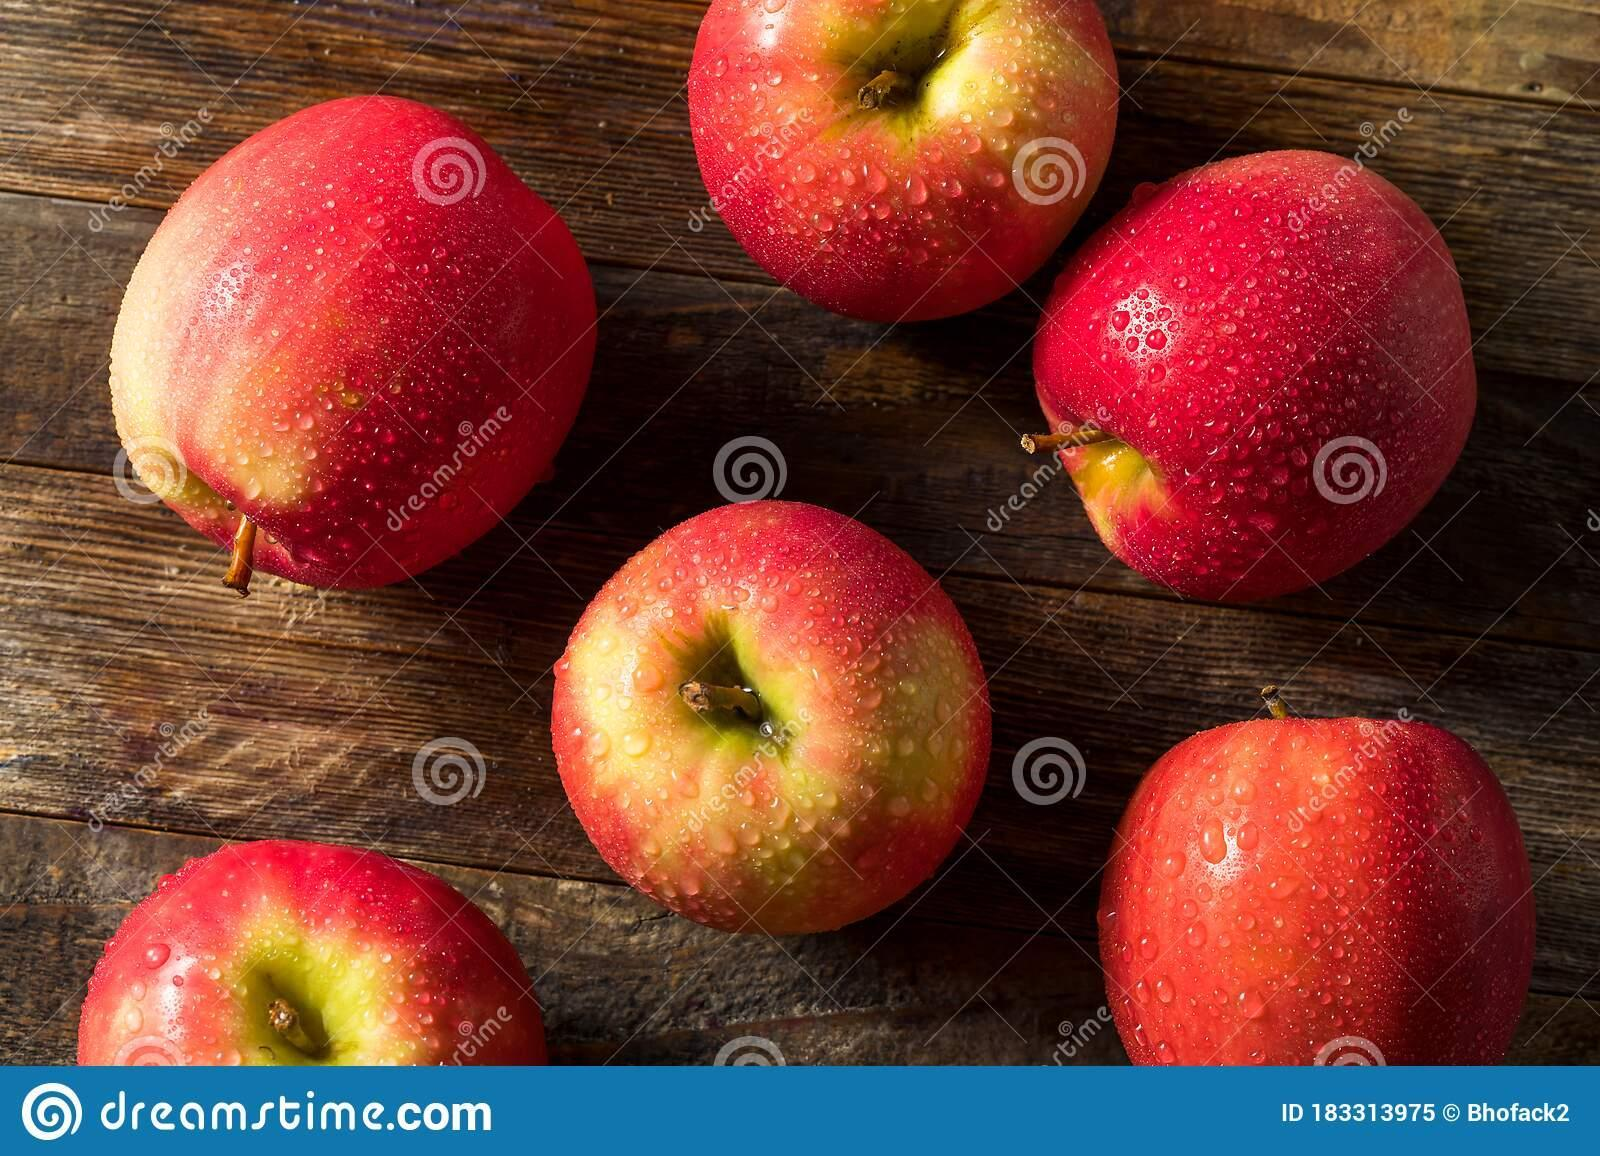apple: (107, 97, 599, 584), (1029, 144, 1477, 606), (542, 494, 990, 932), (1099, 709, 1539, 1067), (683, 1, 1120, 330), (81, 841, 545, 1067)
